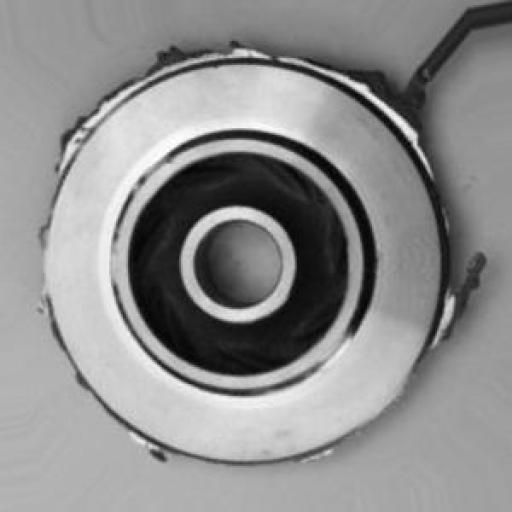defect: (28, 21, 492, 481)
